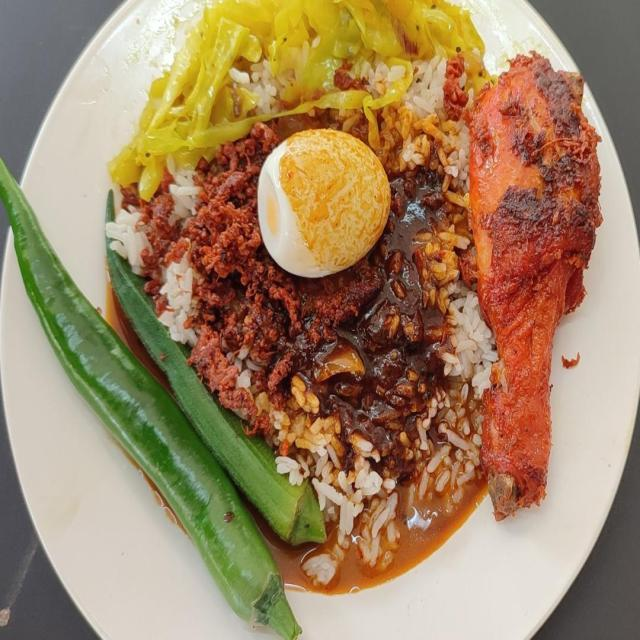Chicken: (466, 49, 599, 521)
Egg: (256, 123, 392, 282)
Plate: (289, 95, 639, 639)
Rice: (132, 101, 481, 561)
Vegetables: (0, 161, 331, 640), (111, 0, 494, 170)
